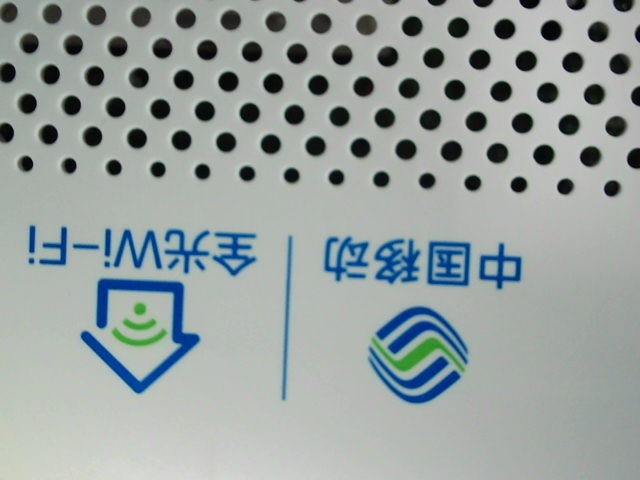BJ_QuanGuangMobile: (19, 208, 530, 405)
